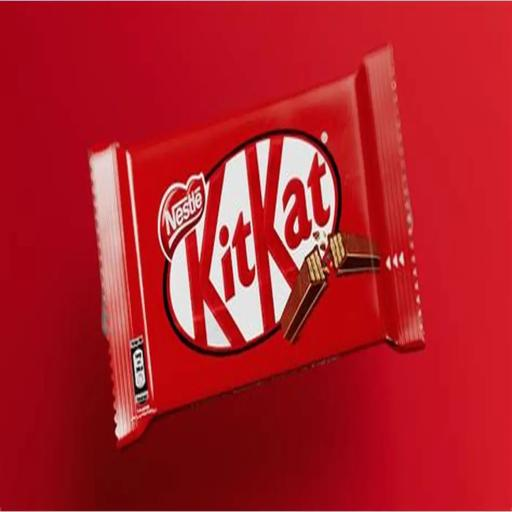kitkat: (78, 81, 457, 454)
